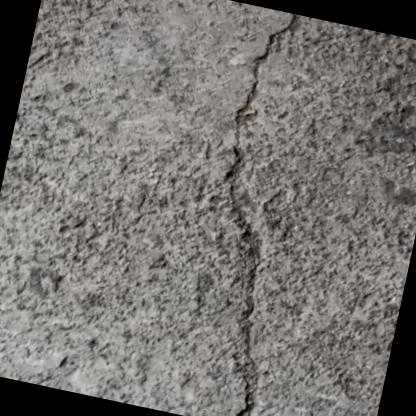crack: (222, 14, 299, 416)
